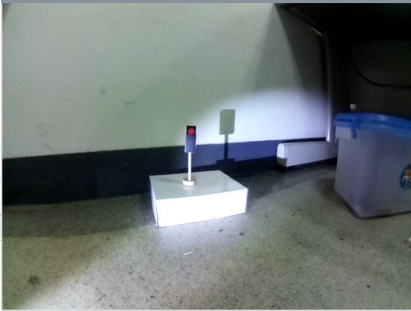Red: (184, 122, 198, 153)
